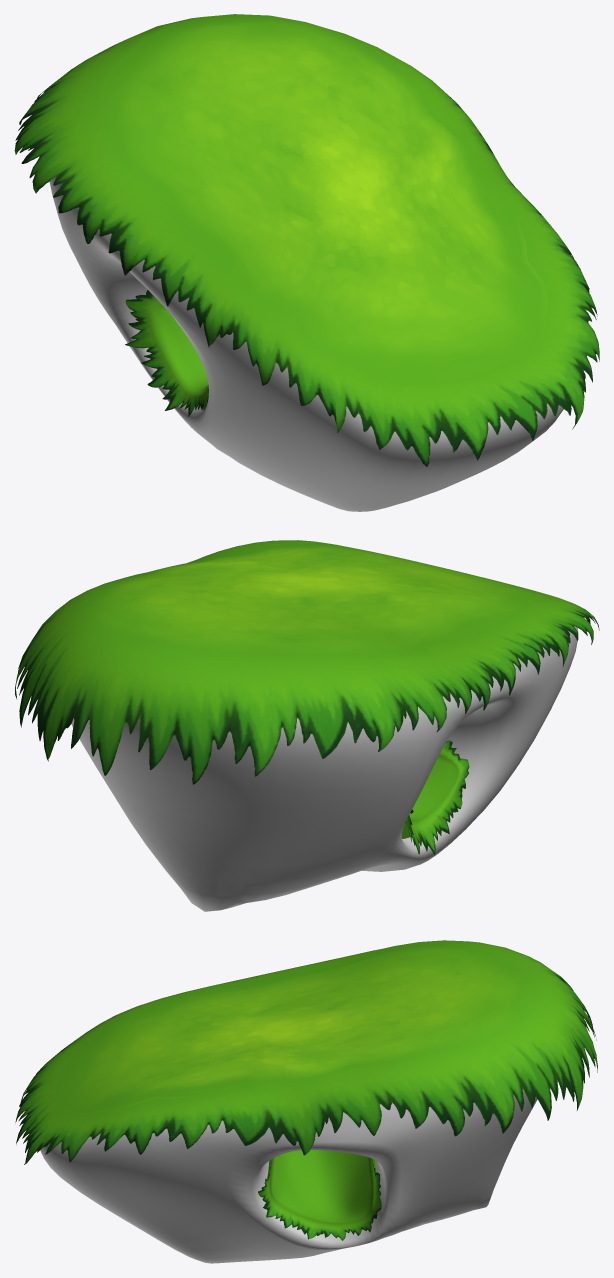
File: Island_Small_03.fbx
3 renders of one model, top to bottom at view 1: azimuth 30°, elevation 25°; view 2: azimuth 150°, elevation 25°; view 3: azimuth 270°, elevation 25°, orthographic. The views are drawn at different scales.
Visible parts, largest first — view 1: Island_Small_03; view 2: Island_Small_03; view 3: Island_Small_03.
Boxes of the visible parts, <box> form: Island_Small_03: <box>14,14,599,511</box>; Island_Small_03: <box>15,540,599,911</box>; Island_Small_03: <box>15,940,597,1263</box>.
Bounding box in the file's own units: 367 × 289 × 573.
